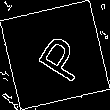P_NW: (24, 26, 86, 84)
